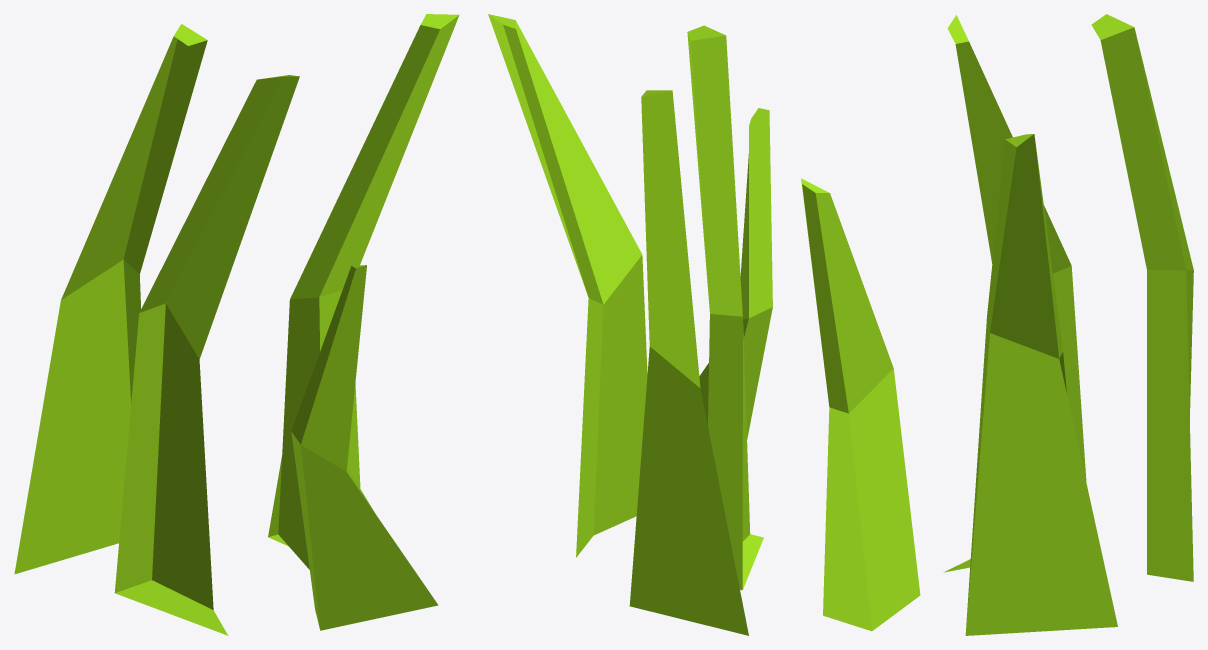
The model's file is obj_grass.fbx.
3 views of the same model, side by side, from view 1: azimuth 30°, elevation 25°; view 2: azimuth 150°, elevation 25°; view 3: azimuth 270°, elevation 25° (orthographic). The views are drawn at different scales.
Visible parts, largest first — view 1: Grass; view 2: Grass; view 3: Grass.
Part boxes in pixels (left/top/right/bottom): Grass: left=14, top=14, right=459, bottom=635; Grass: left=488, top=14, right=772, bottom=635; Grass: left=801, top=14, right=1193, bottom=635.
Size of the model in its own units: 119 by 170 by 105.
